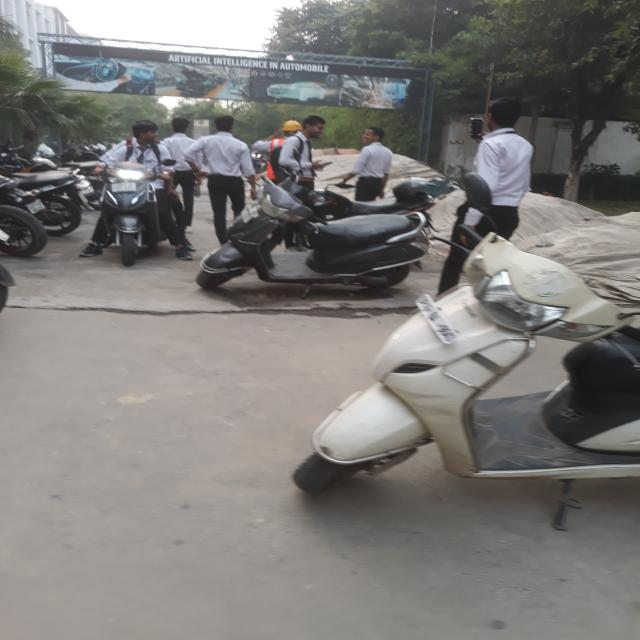safe: (253, 119, 304, 194)
unsafe: (439, 96, 532, 299), (82, 122, 193, 261), (189, 115, 255, 248), (274, 114, 326, 250), (162, 117, 198, 232), (340, 128, 394, 202)
